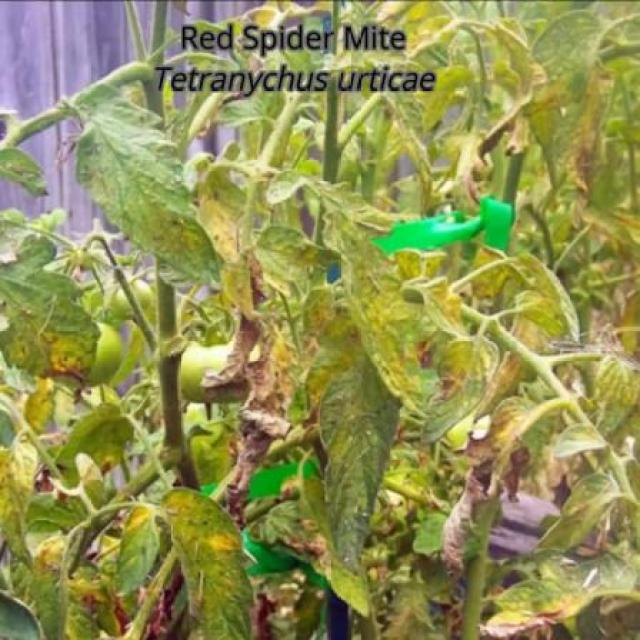Spider Mites: (74, 82, 224, 287), (323, 206, 431, 423), (164, 484, 257, 639), (421, 336, 499, 446), (114, 503, 165, 597)
